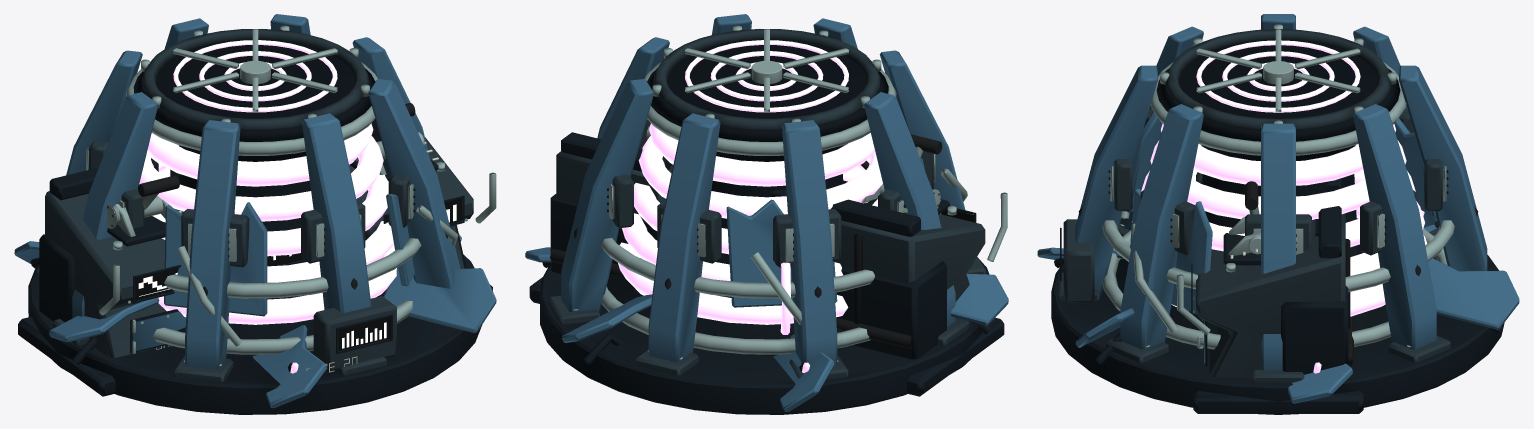
The model's file is reactor.glb.
3 views of the same model, side by side, from view 1: azimuth 30°, elevation 25°; view 2: azimuth 150°, elevation 25°; view 3: azimuth 270°, elevation 25° (orthographic).
Parts seen in each view (by area): view 1: reactor-crown--p11-tint-metal, reactor-crown--e9-dark, reactor-crown--e9-violet, reactor-crown--e9-body, reactor-crown--e9-trim, manual-authorisation-dais--e9-body, manual-authorisation-dais--e9-dark, manual-authorisation-dais--e9-trim, manual-authorisation-dais--p11-tint, manual-authorisation-dais--p11-tint-metal, reactor-crown--p11-tint, manual-authorisation-dais--p11-rubber; view 2: reactor-crown--p11-tint-metal, reactor-crown--e9-dark, reactor-crown--e9-violet, reactor-crown--e9-trim, manual-authorisation-dais--e9-dark, reactor-crown--e9-body, manual-authorisation-dais--e9-body, manual-authorisation-dais--p11-rubber, manual-authorisation-dais--e9-trim; view 3: reactor-crown--p11-tint-metal, reactor-crown--e9-dark, reactor-crown--e9-body, reactor-crown--e9-violet, reactor-crown--e9-trim, manual-authorisation-dais--e9-body, manual-authorisation-dais--e9-dark, manual-authorisation-dais--e9-trim, manual-authorisation-dais--p11-rubber.
Boxes of the visible parts, left/top/right/bottom form: reactor-crown--p11-tint-metal: left=14, top=14, right=496, bottom=408; reactor-crown--e9-dark: left=28, top=39, right=481, bottom=414; reactor-crown--e9-violet: left=139, top=40, right=396, bottom=373; reactor-crown--e9-body: left=36, top=29, right=409, bottom=382; reactor-crown--e9-trim: left=86, top=25, right=458, bottom=366; manual-authorisation-dais--e9-body: left=45, top=137, right=473, bottom=357; manual-authorisation-dais--e9-dark: left=18, top=158, right=492, bottom=396; manual-authorisation-dais--e9-trim: left=99, top=132, right=496, bottom=353; manual-authorisation-dais--p11-tint: left=135, top=198, right=461, bottom=349; manual-authorisation-dais--p11-tint-metal: left=132, top=311, right=186, bottom=350; reactor-crown--p11-tint: left=306, top=317, right=390, bottom=372; manual-authorisation-dais--p11-rubber: left=38, top=103, right=415, bottom=292; reactor-crown--p11-tint-metal: left=525, top=14, right=1008, bottom=411; reactor-crown--e9-dark: left=540, top=39, right=991, bottom=414; reactor-crown--e9-violet: left=618, top=40, right=882, bottom=372; reactor-crown--e9-trim: left=573, top=25, right=967, bottom=364; manual-authorisation-dais--e9-dark: left=529, top=132, right=1004, bottom=396; reactor-crown--e9-body: left=548, top=29, right=985, bottom=379; manual-authorisation-dais--e9-body: left=556, top=151, right=985, bottom=318; manual-authorisation-dais--p11-rubber: left=550, top=134, right=942, bottom=348; manual-authorisation-dais--e9-trim: left=646, top=122, right=1007, bottom=261; reactor-crown--p11-tint-metal: left=1037, top=14, right=1519, bottom=403; reactor-crown--e9-dark: left=1051, top=39, right=1504, bottom=414; reactor-crown--e9-body: left=1058, top=29, right=1450, bottom=382; reactor-crown--e9-violet: left=1129, top=40, right=1427, bottom=373; reactor-crown--e9-trim: left=1102, top=24, right=1454, bottom=349; manual-authorisation-dais--e9-body: left=1196, top=172, right=1345, bottom=377; manual-authorisation-dais--e9-dark: left=1191, top=178, right=1363, bottom=413; manual-authorisation-dais--e9-trim: left=1176, top=206, right=1297, bottom=348; manual-authorisation-dais--p11-rubber: left=1245, top=181, right=1353, bottom=366.
Bounding box in the file's own units: 4.83 × 2.7 × 4.67.
